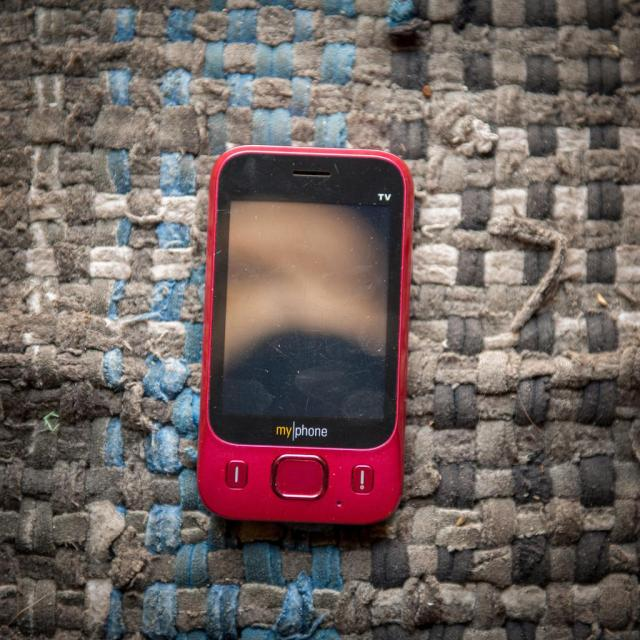Phone: (197, 144, 415, 527)
